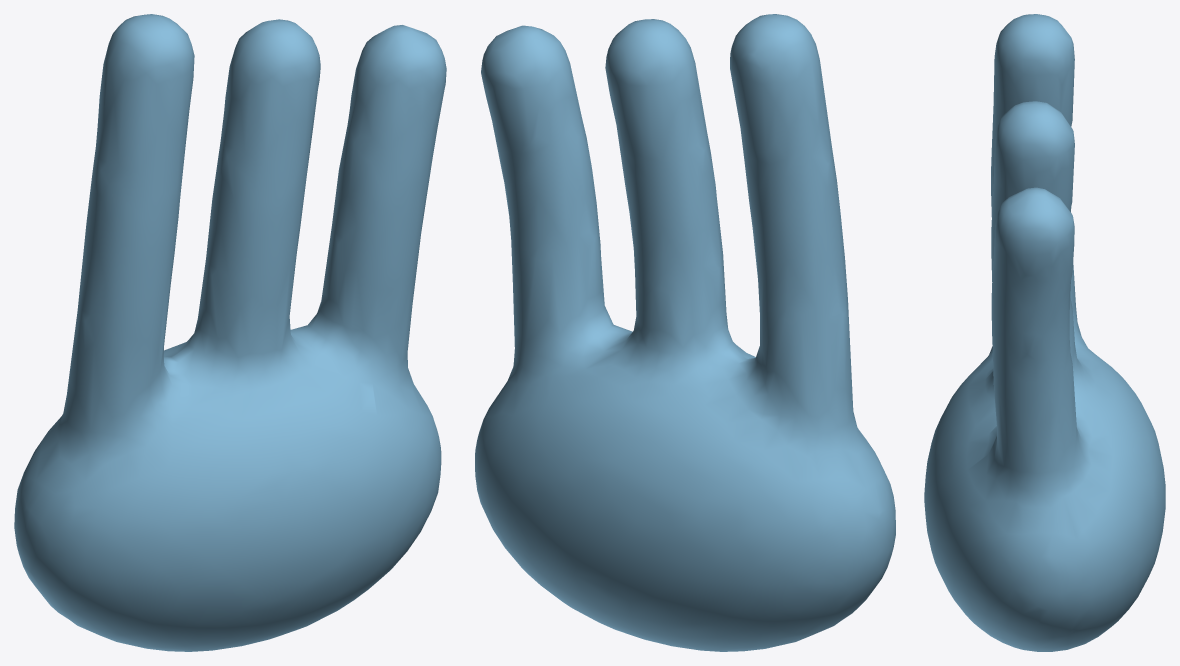
File: cloth-three-prong.glb
3 views of the same model, side by side, from view 1: azimuth 30°, elevation 25°; view 2: azimuth 150°, elevation 25°; view 3: azimuth 270°, elevation 25° (orthographic). The views are drawn at different scales.
Visible parts, largest first — view 1: cloth-three-prong; view 2: cloth-three-prong; view 3: cloth-three-prong.
Boxes of the visible parts, box(x1,y1,x2,y2) form: cloth-three-prong: box(14, 14, 446, 651); cloth-three-prong: box(475, 14, 895, 651); cloth-three-prong: box(924, 14, 1165, 651).
Bounding box in the file's own units: 1.33 × 2 × 0.7675.
